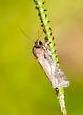army worm adult: (19, 26, 72, 90)
